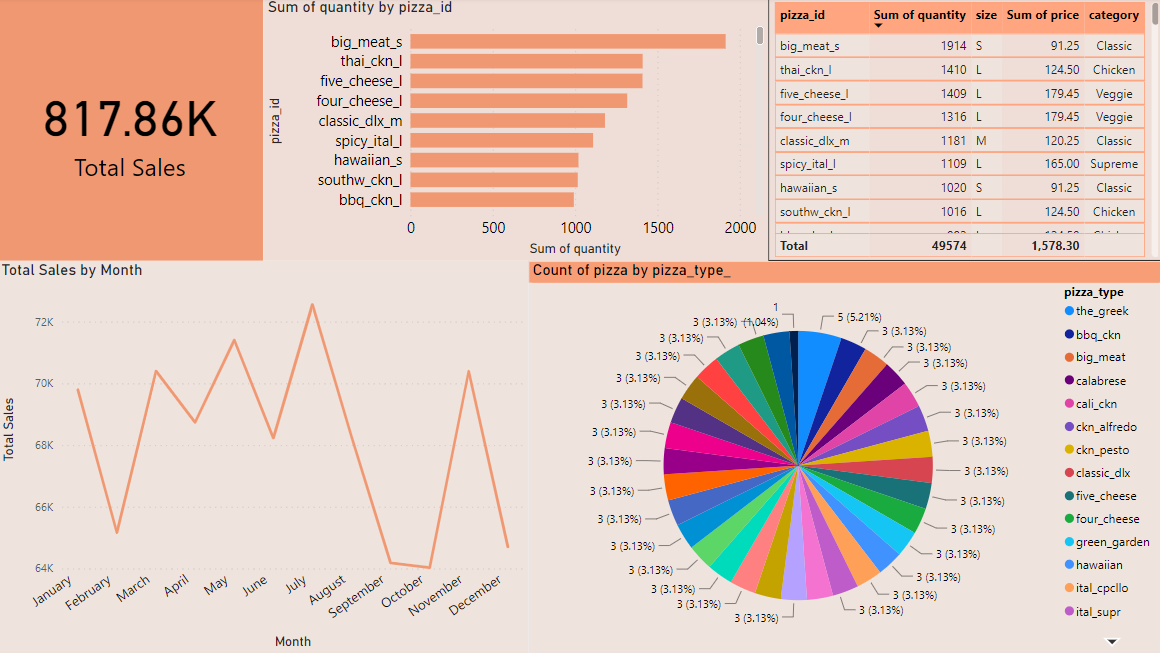

The page's visual inventory and layout, read from the dashboard file:
{"tool":"powerbi","page":{"name":"Page 1","canvas":[1280,720],"ordinal":0},"visuals":[{"type":"card","fields":{"Values":["order_details.Total Sales"]},"box":[0,0,292.3,289.5],"z":0},{"type":"lineChart","fields":{"Category":["orders.date.Variation.Date Hierarchy.Month"],"Y":["order_details.Total Sales"]},"box":[0,289.5,583.2,430.9],"z":1},{"type":"pieChart","title":"Count of pizza by pizza_type_","fields":{"Category":["pizzas.pizza_type_id"],"Y":["CountNonNull(pizzas.pizza_id)"]},"box":[583.2,289.5,697.1,430.9],"z":2},{"type":"tableEx","fields":{"Values":["order_details.pizza_id","Sum(order_details.quantity)","pizzas.size","Sum(pizzas.price)","pizza_types.category"]},"box":[846.7,0,433.6,289.5],"z":3},{"type":"barChart","fields":{"Category":["order_details.pizza_id"],"Y":["Sum(order_details.quantity)"]},"box":[292.3,0,554.4,289.5],"z":4}]}

Visuals, with their boxes in screenshot pixels (x1, y1, x2, y2), scaled from the page's 1280x720 canvas onto the 1160x653 screenshot:
card - order_details.Total Sales: bbox(0, 0, 265, 263)
lineChart - orders.date.Variation.Date Hierarchy.Month x order_details.Total Sales: bbox(0, 263, 529, 652)
"Count of pizza by pizza_type_" pieChart: bbox(529, 263, 1159, 652)
tableEx - order_details.pizza_id x Sum(order_details.quantity): bbox(767, 0, 1159, 263)
barChart - order_details.pizza_id x Sum(order_details.quantity): bbox(265, 0, 767, 263)
